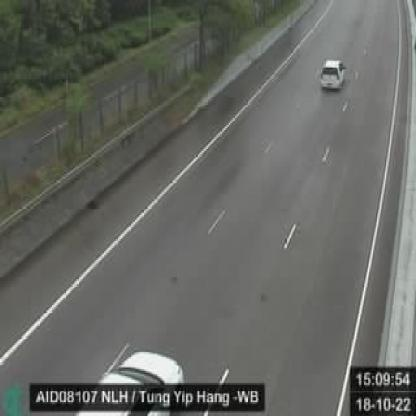Car: (81, 340, 196, 413), (316, 55, 346, 92)
